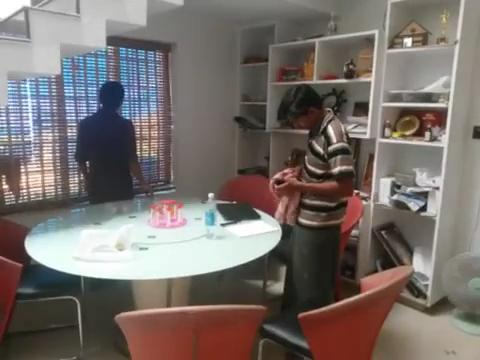chair: (257, 265, 414, 359), (1, 219, 84, 359), (262, 195, 364, 302), (112, 304, 267, 360), (217, 174, 280, 289)
closet_cabinet: (235, 1, 480, 308)
cup_glass_bottle: (147, 199, 187, 228)
floor: (1, 253, 480, 360), (1, 1, 184, 105)
paper_notebook: (215, 203, 279, 238)
person: (274, 84, 354, 312)
table_desk: (23, 197, 282, 359)
towel_s: (269, 167, 300, 225)
window: (1, 45, 170, 206), (75, 81, 152, 203)
